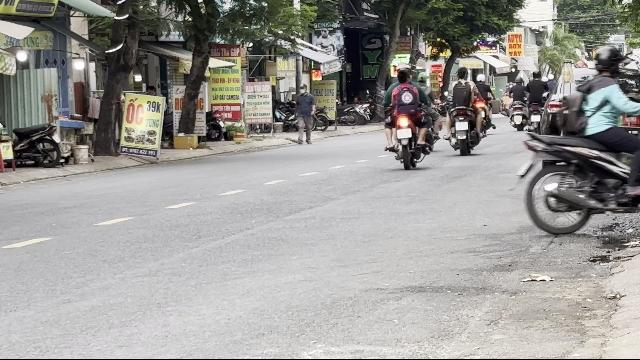helmet: (592, 45, 624, 75)
motorcyclist: (515, 44, 639, 236)
